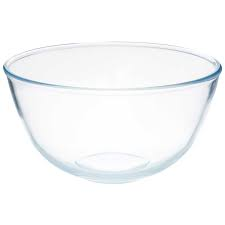bowl: (1, 39, 223, 186)
